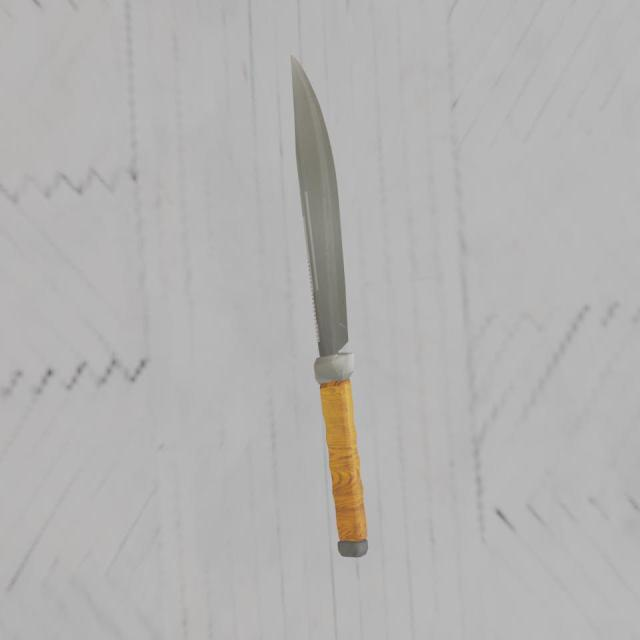knife: (315, 351, 366, 556)
